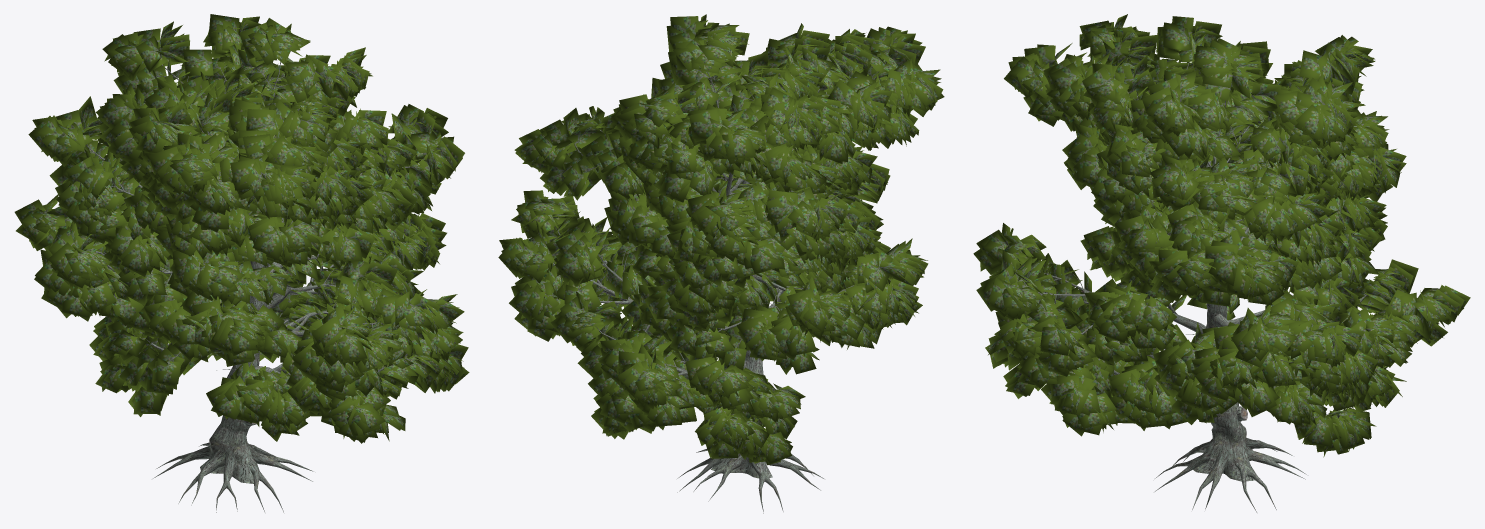
Rendered from White_Oak.fbx.
3 views of the same model, side by side, from view 1: azimuth 30°, elevation 25°; view 2: azimuth 150°, elevation 25°; view 3: azimuth 270°, elevation 25° (orthographic). The views are drawn at different scales.
Parts seen in each view (by area): view 1: White_Oak_Hero_14; view 2: White_Oak_Hero_14; view 3: White_Oak_Hero_14.
Boxes of the visible parts, bbox=[...] form: White_Oak_Hero_14: bbox=[14, 14, 469, 512]; White_Oak_Hero_14: bbox=[498, 14, 944, 513]; White_Oak_Hero_14: bbox=[973, 14, 1470, 512].
Bounding box in the file's own units: 7.13 × 7.58 × 7.43.
Materials: 4 (4 with a texture image).
